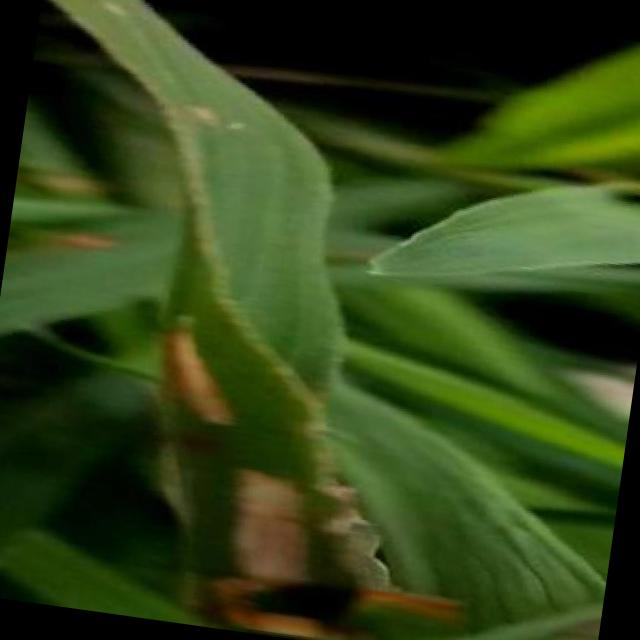Rice_Blast: (192, 430, 338, 602), (158, 306, 260, 426)
